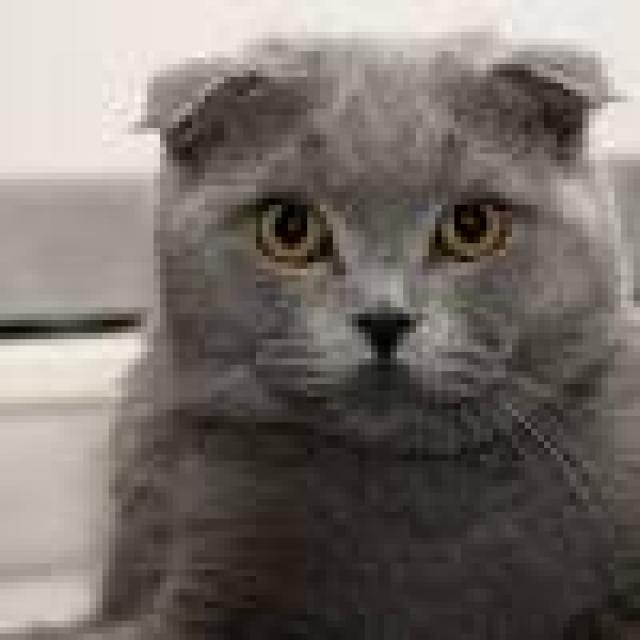cat-face: (103, 36, 640, 486)
